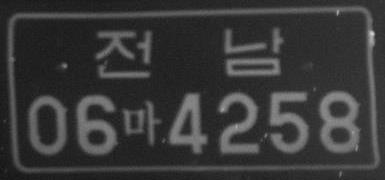0: (26, 93, 68, 156)
2: (215, 90, 261, 156)
4: (167, 92, 209, 154)
5: (267, 90, 312, 154)
6: (74, 93, 119, 156)
8: (317, 90, 360, 154)
마: (121, 99, 162, 146)
전남_D: (95, 24, 284, 81)
